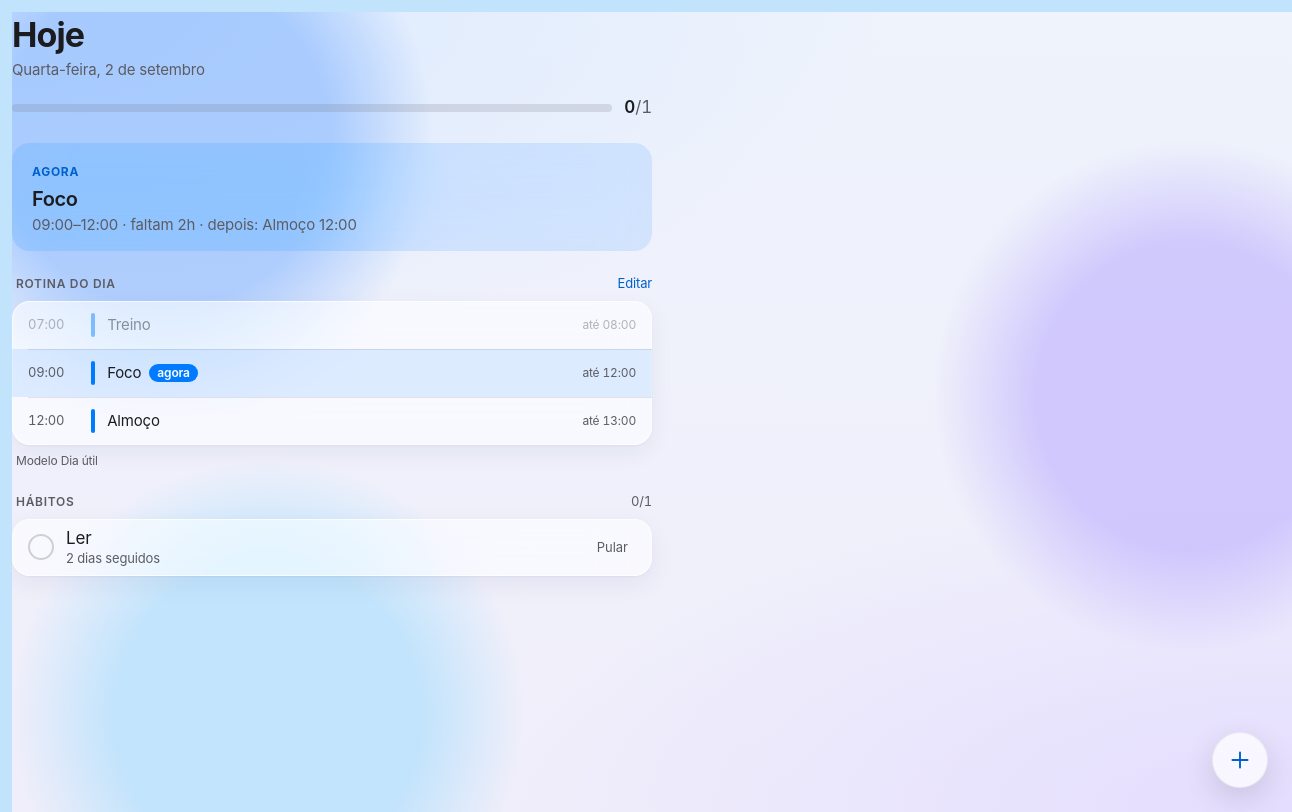
Hoje › habitos › pular nao conta como feito
Click the button with class "item__pular". click: click(612, 547)
box: x1=589 y1=535 x2=636 y2=559
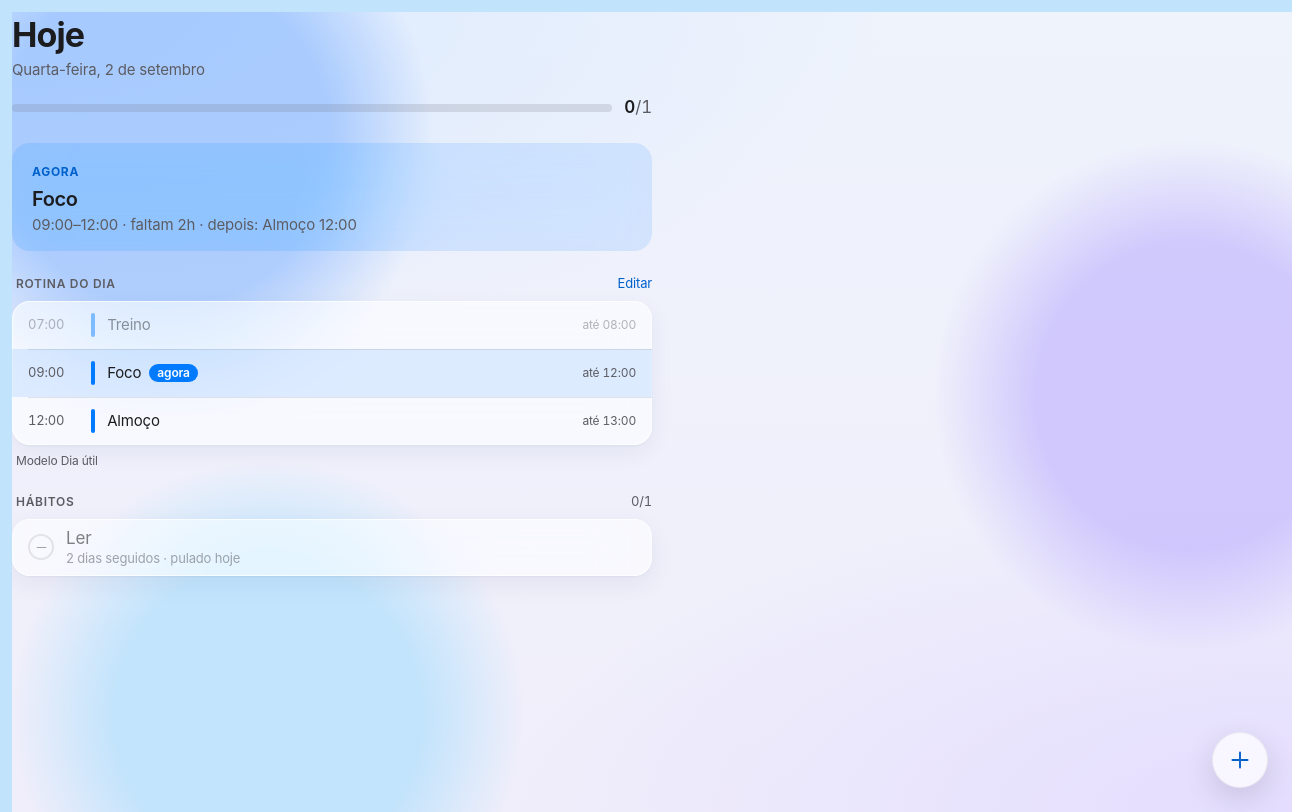
Check: the text "0/1" is shown, box x1=624 y1=96 x2=652 y2=119
Check: the text "pulado hoje" is shown, box x1=66 y1=550 x2=240 y2=566
